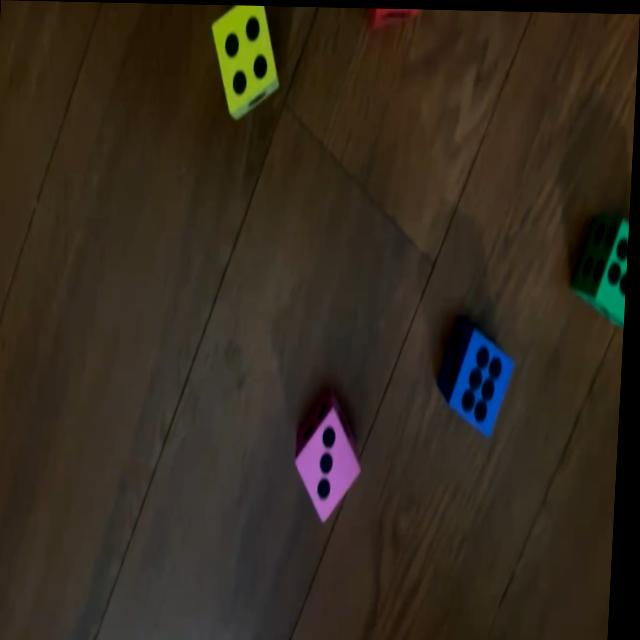blue_block: (438, 312, 521, 438)
red_block: (367, 6, 426, 31)
